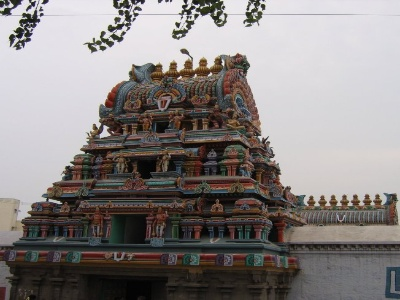gopura: (27, 47, 296, 253)
